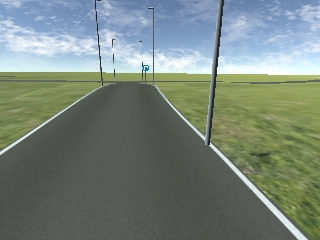right: (142, 64, 150, 72)
